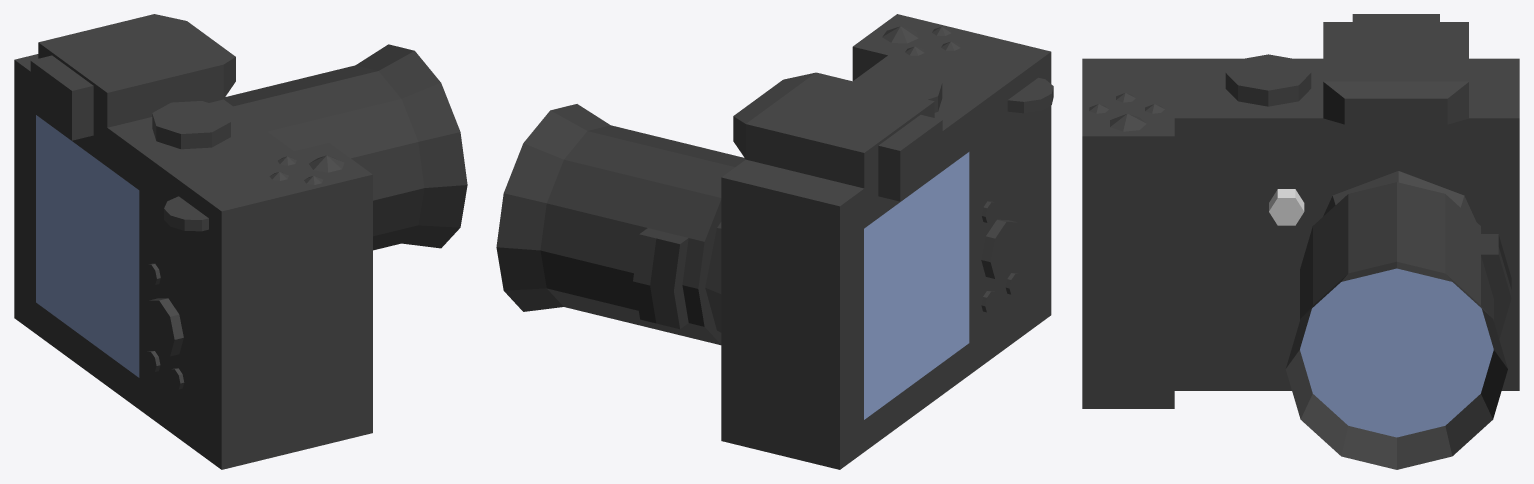
Rendered from camera.glb.
3 renders of one model, left to right at view 1: azimuth 30°, elevation 25°; view 2: azimuth 150°, elevation 25°; view 3: azimuth 270°, elevation 25°, orthographic. The views are drawn at different scales.
Visible parts, largest first — view 1: Cube, Cylinder, Plane, Cylinder.002; view 2: Cube, Cylinder, Plane, Cylinder.002; view 3: Cube, Cylinder, Cylinder.003, Cylinder.001.
Boxes of the visible parts, x1=… form: Cube: x1=14, y1=14, x2=372, y2=469; Cylinder: x1=223, y1=44, x2=467, y2=250; Plane: x1=36, y1=115, x2=139, y2=377; Cylinder.002: x1=164, y1=196, x2=208, y2=231; Cube: x1=705, y1=14, x2=1051, y2=469; Cylinder: x1=496, y1=104, x2=745, y2=345; Plane: x1=864, y1=152, x2=969, y2=419; Cylinder.002: x1=1007, y1=77, x2=1053, y2=113; Cube: x1=1082, y1=14, x2=1519, y2=408; Cylinder: x1=1285, y1=182, x2=1511, y2=469; Cylinder.003: x1=1300, y1=268, x2=1493, y2=437; Cylinder.001: x1=1269, y1=189, x2=1304, y2=225.
Size of the model in its own units: 4.8 by 3.66 by 4.69.
